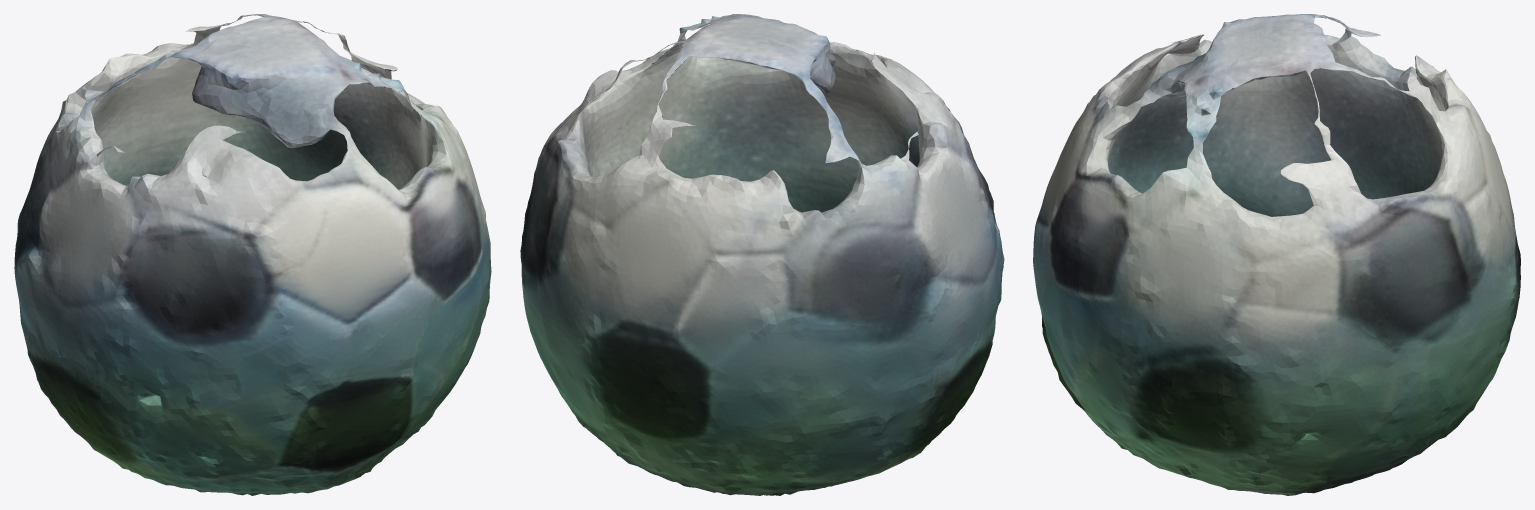
The model's file is pig.glb.
The picture shows the model from 3 angles, left to right: view 1: azimuth 30°, elevation 25°; view 2: azimuth 150°, elevation 25°; view 3: azimuth 270°, elevation 25°; orthographic projection. The views are drawn at different scales.
Size of the model in its own units: 0.6021 by 0.5942 by 0.6013.
1 material, 1 textured.
